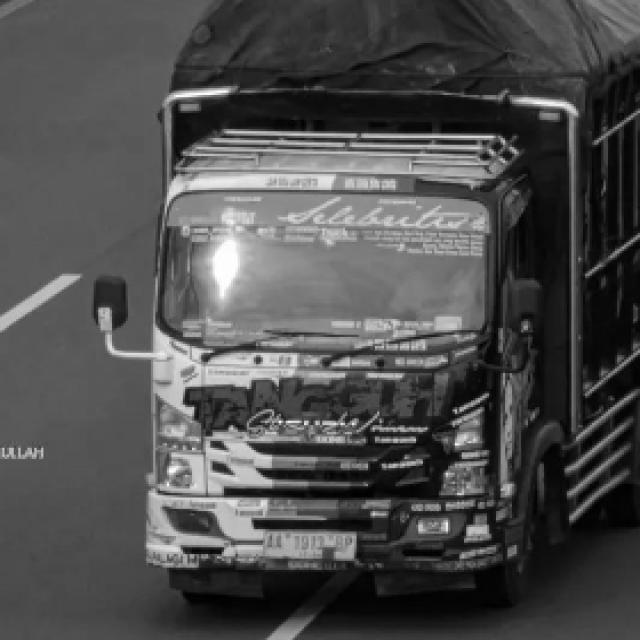Truck: (82, 0, 637, 599)
